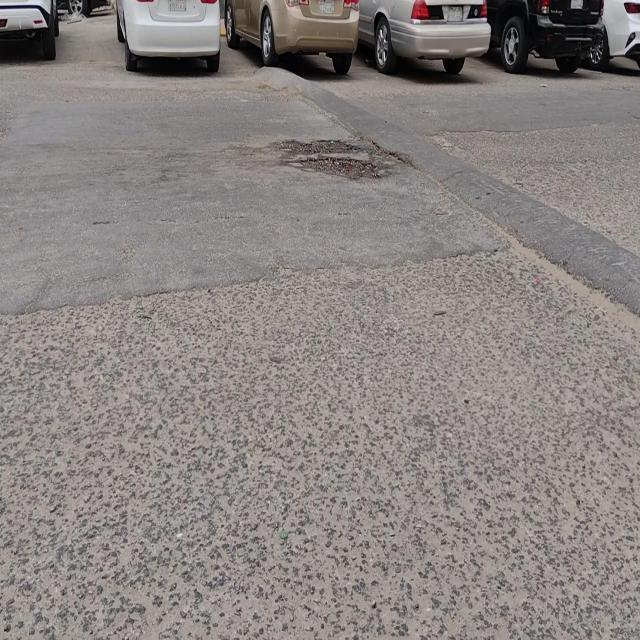Pothole: (278, 140, 377, 183)
